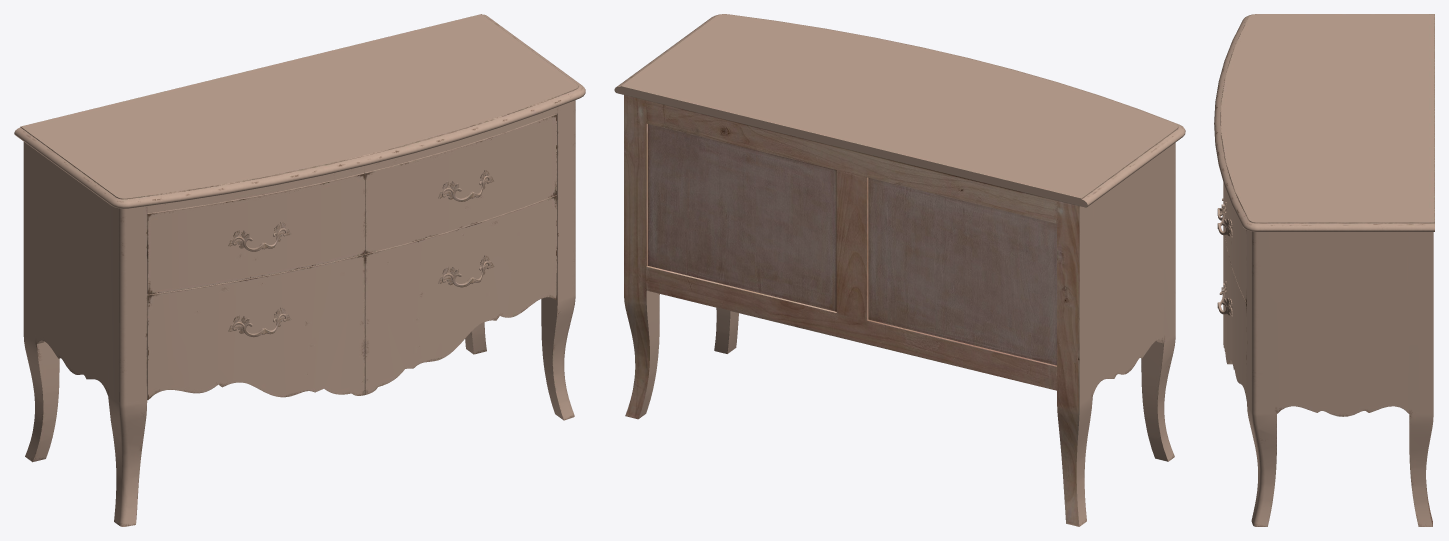
Rendered from example116.glb.
3 renders of one model, left to right at view 1: azimuth 30°, elevation 25°; view 2: azimuth 150°, elevation 25°; view 3: azimuth 270°, elevation 25°, orthographic. The views are drawn at different scales.
Visible parts, largest first — view 1: Buffer Layer (×2); view 2: Buffer Layer (×3); view 3: Buffer Layer (×2).
Boxes of the visible parts, left/top/right/bottom form: Buffer Layer (×2): left=14, top=14, right=585, bottom=526; Buffer Layer (×3): left=614, top=14, right=1185, bottom=526; Buffer Layer (×2): left=1214, top=14, right=1434, bottom=526.
Bounding box in the file's own units: 1.35 × 0.8993 × 0.5881.
Materials: 4 (3 with a texture image).
